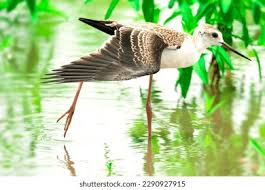Walking: (31, 6, 237, 163)
